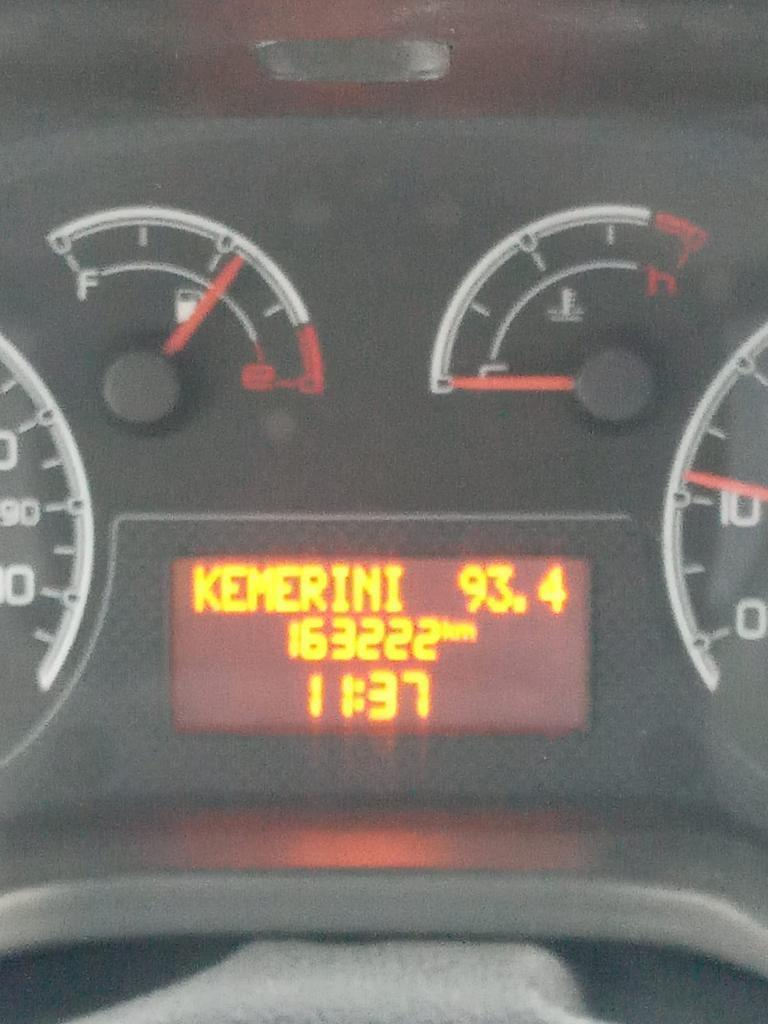,: (513, 593, 528, 615)
1: (304, 670, 325, 719), (336, 671, 352, 720), (285, 619, 298, 660)
2: (413, 616, 441, 663), (356, 616, 384, 662), (384, 616, 412, 662)
3: (366, 668, 398, 723), (486, 563, 513, 615), (329, 616, 356, 661)
4: (533, 562, 570, 615)
6: (299, 616, 328, 662)
7: (399, 668, 431, 721)
9: (455, 564, 486, 614)
X: (351, 562, 383, 613), (191, 562, 220, 615), (247, 564, 276, 615), (219, 563, 247, 615), (302, 564, 329, 613), (276, 564, 301, 614), (383, 563, 404, 613), (329, 564, 350, 613), (454, 621, 478, 642), (352, 677, 365, 713), (442, 619, 454, 642)
odometer: (155, 544, 604, 741)
